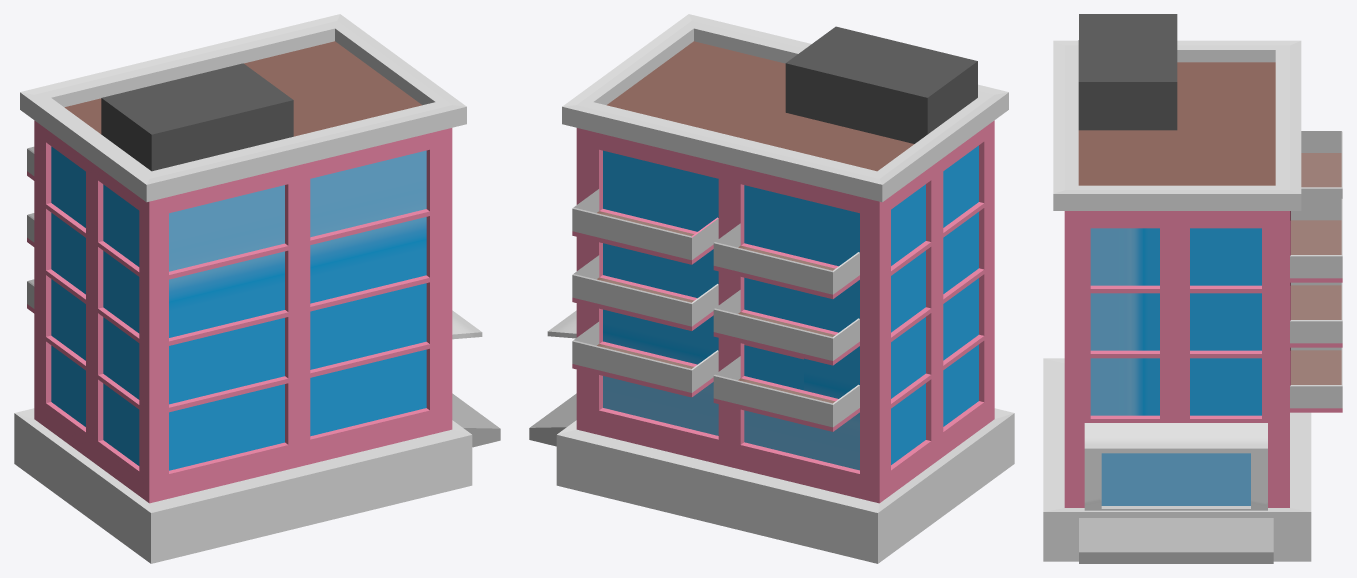
3 renders of one model, left to right at view 1: azimuth 30°, elevation 25°; view 2: azimuth 150°, elevation 25°; view 3: azimuth 270°, elevation 25°, orthographic. The views are drawn at different scales.
Parts seen in each view (by area): view 1: House; view 2: House; view 3: House.
Boxes of the visible parts, x1,y1,x2,y2 form: House: [14, 14, 500, 563]; House: [529, 14, 1014, 563]; House: [1043, 14, 1342, 563].
Size of the model in its own units: 513 by 549 by 369.
